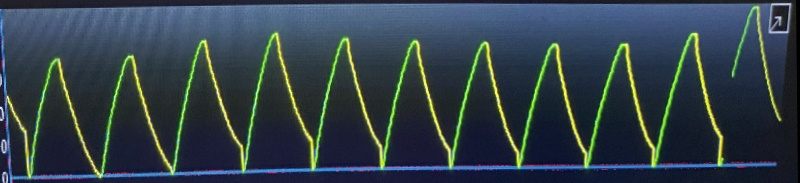leakage: (179, 23, 719, 174)
normal_volume: (21, 34, 167, 180)
